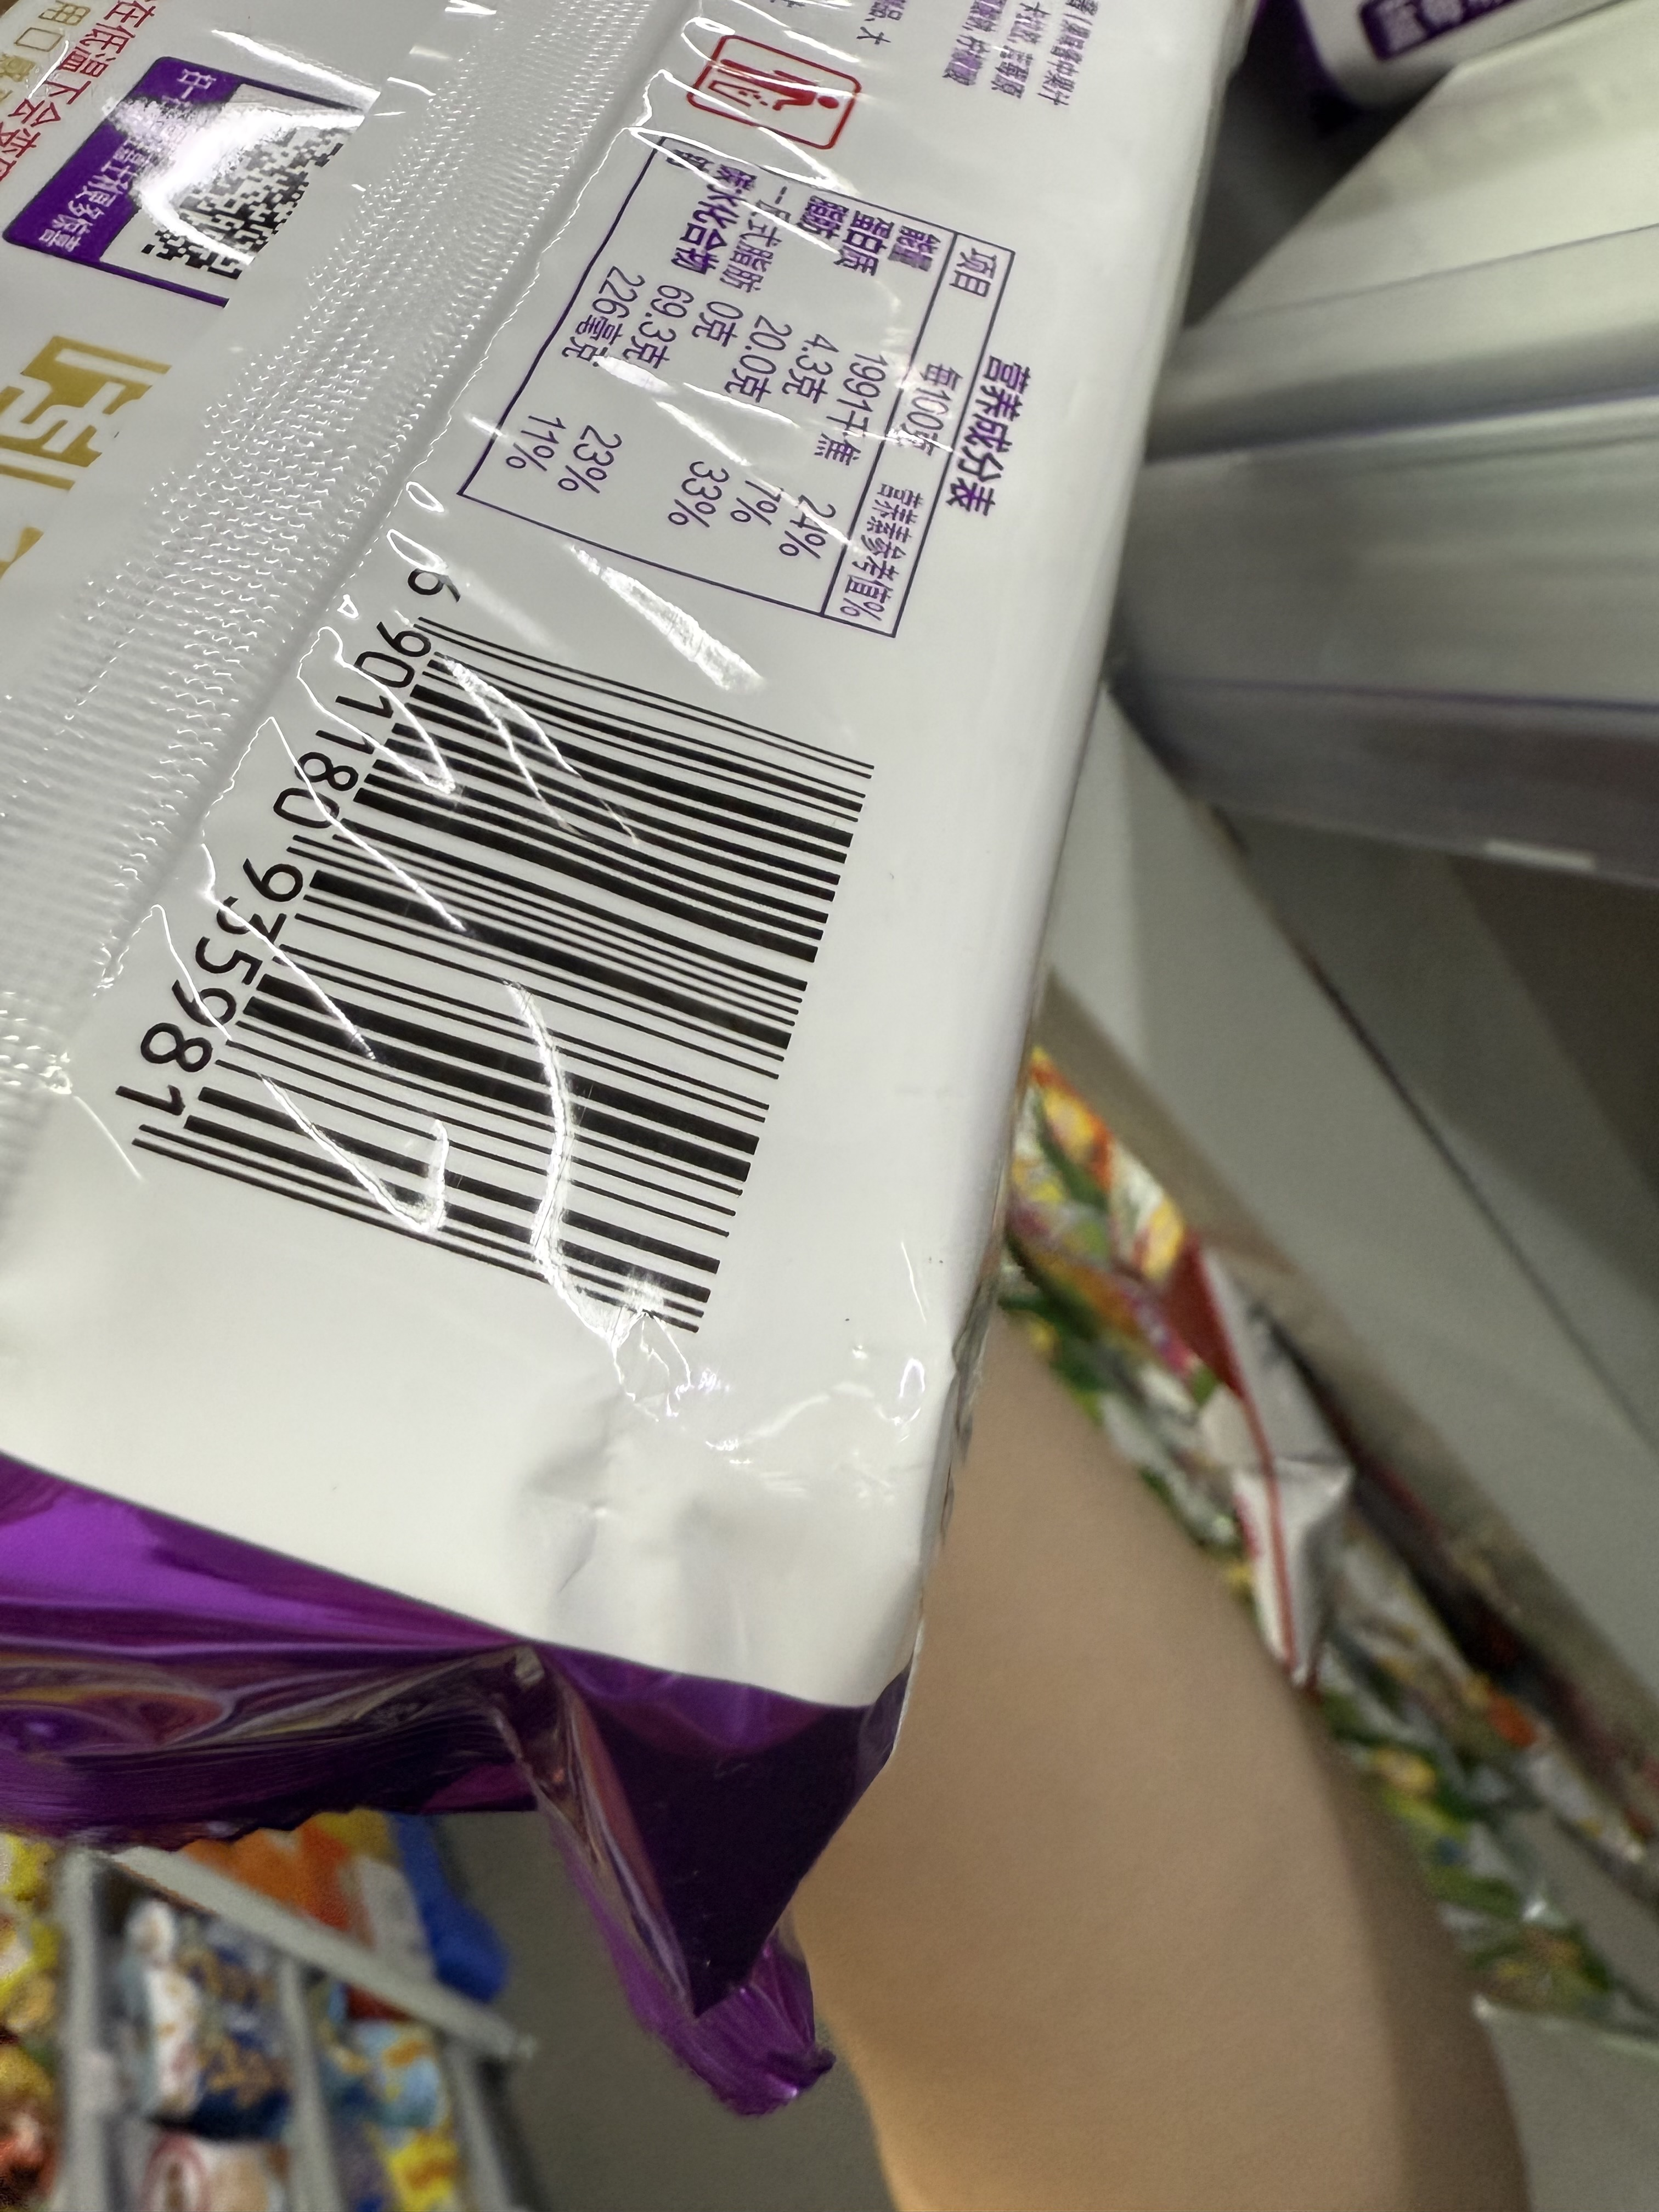bar: (117, 601, 882, 1341)
